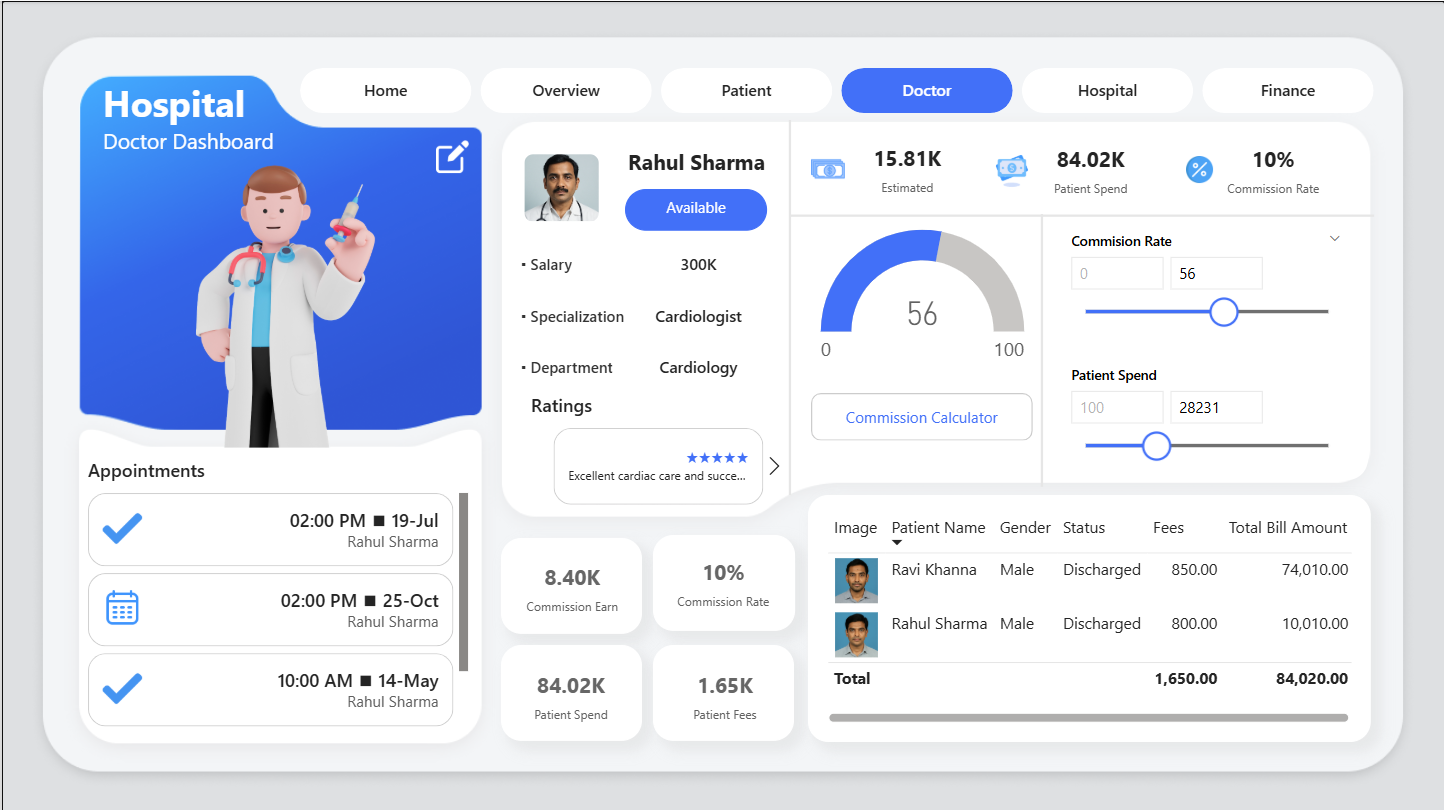

What the dashboard file says about the page in this screenshot:
{"tool":"powerbi","page":{"name":"Doctor","canvas":[1280,720],"ordinal":3},"visuals":[{"type":"shape","box":[442.1,476.2,125.4,85.3],"z":0},{"type":"shape","box":[577.7,473.8,125.7,85.2],"z":1000},{"type":"shape","box":[442.1,571.2,125.4,85.3],"z":2000},{"type":"shape","box":[577.3,571.2,125.4,85.3],"z":3000},{"type":"card","fields":{"Values":["Key Measures.Total_Bill_Amt"]},"box":[444.5,576.1,120.6,80.4],"z":4000},{"type":"card","fields":{"Values":["Key Measures.doctor_fees"]},"box":[580.9,576.1,120.6,80.4],"z":5000},{"type":"card","fields":{"Values":["Key Measures.Dr_Commission_Amt"]},"box":[445.7,481.1,119.4,79.2],"z":6000},{"type":"card","fields":{"Values":["Key Measures.Dr_Commission_Rate"]},"box":[579.7,476.9,119.5,79],"z":7000},{"type":"image","box":[104.7,132.7,280.1,263.1],"z":8000},{"type":"textbox","box":[89.6,68.3,164,75.4],"z":9000},{"type":"image","box":[384.8,120.6,29.3,34.6],"z":10000},{"type":"card","fields":{"Values":["Min(patient_info.doctor_name)"]},"box":[536.1,126.8,159,35.3],"z":11000},{"type":"card","fields":{"Values":["Min(patient_info.doctor_availability)"]},"box":[552.3,166.3,126,37.3],"z":12000},{"type":"shape","box":[460.3,213,75,40],"z":13000},{"type":"shape","box":[460.6,259,91.7,40.3],"z":14000},{"type":"shape","box":[460.6,305.4,91.7,39.3],"z":15000},{"type":"card","fields":{"Values":["Sum(patient_info.doctor_salary)"]},"box":[540.3,215.7,155,40],"z":16000},{"type":"card","fields":{"Values":["Min(patient_info.doctor_specialization)"]},"box":[540.3,261.4,155,40],"z":17000},{"type":"card","fields":{"Values":["Min(patient_info.doctor_department)"]},"box":[540.3,307.1,155,40],"z":18000},{"type":"advancedSlicerVisual","title":"Appointments","fields":{"Values":["appointment.Appointment_Time_Date"]},"box":[76.6,405.2,337.6,239.9],"z":19000},{"type":"cardVisual","fields":{"Data":["Min(patient_info.doctor_Img)"]},"box":[460.6,118.9,79.6,94.7],"z":20000},{"type":"advancedSlicerVisual","title":"Ratings","fields":{"Values":["patient_info.satisfaction_feedback"]},"box":[468.7,347.7,226.8,99.8],"z":21000},{"type":"tableEx","fields":{"Values":["patient_info.patient_Img","patient_info.patient_name","patient_info.patient_gender","patient_info.patient_status","Key Measures.doctor_fees","Key Measures.Total_Bill_Amt"]},"box":[715,438,499,219],"z":22000},{"type":"card","fields":{"Values":["Key Measures.Total_Bill_Amt"]},"box":[900.5,117.9,129,62.5],"z":23000},{"type":"card","fields":{"Values":["Key Measures.Estimated_commission"]},"box":[737.8,117.9,130,61.5],"z":24000},{"type":"card","fields":{"Values":["Key Measures.Dr_Commission_Rate"]},"box":[1062.3,117.9,130,62.5],"z":25000},{"type":"slicer","fields":{"Values":["Estimate_Commision_Rate.Estimate_Commision_Rate"]},"box":[922.6,188.5,288.3,120.9],"z":26000},{"type":"slicer","fields":{"Values":["Estimate_Patient_Amount.Estimate_Patient_Amount"]},"box":[922.6,307.4,288.3,116.9],"z":27000},{"type":"gauge","fields":{"Y":["Max(Estimate_Commision_Rate.Estimate_Commision_Rate)"],"MaxValue":["Key Measures.Target"]},"box":[709.5,188.5,213.7,152.2],"z":28000},{"type":"textbox","box":[601.7,0,101.8,99.8],"z":29000},{"type":"shape","box":[699.5,181.4,517,17.1],"z":30000},{"type":"shape","box":[688.4,105.8,21.2,332.6],"z":31000},{"type":"shape","box":[911.1,188.5,21.2,241.9],"z":32000},{"type":"shape","box":[717.6,347.7,196.5,42.3],"z":33000},{"type":"image","box":[717.6,134,30.2,30.2],"z":34000},{"type":"image","box":[880.9,136.1,30.2,30.2],"z":35000},{"type":"image","box":[1050.2,137.1,24.2,24.2],"z":36000},{"type":"pageNavigator","box":[264.1,59.5,952.4,40.3],"z":37001}]}

Visuals, with their boxes in screenshot pixels (x1, y1, x2, y2), scaled from the page's 1280x720 canvas onto the 1444x810 screenshot:
shape: x1=499 y1=536 x2=640 y2=632
shape: x1=652 y1=533 x2=794 y2=629
shape: x1=499 y1=643 x2=640 y2=739
shape: x1=651 y1=643 x2=793 y2=739
card - Key Measures.Total_Bill_Amt: x1=501 y1=648 x2=638 y2=739
card - Key Measures.doctor_fees: x1=655 y1=648 x2=791 y2=739
card - Key Measures.Dr_Commission_Amt: x1=503 y1=541 x2=638 y2=630
card - Key Measures.Dr_Commission_Rate: x1=654 y1=537 x2=789 y2=625
image: x1=118 y1=149 x2=434 y2=445
textbox: x1=101 y1=77 x2=286 y2=162
image: x1=434 y1=136 x2=467 y2=175
card - Min(patient_info.doctor_name): x1=605 y1=143 x2=784 y2=182
card - Min(patient_info.doctor_availability): x1=623 y1=187 x2=765 y2=229
shape: x1=519 y1=240 x2=604 y2=285
shape: x1=520 y1=291 x2=623 y2=337
shape: x1=520 y1=344 x2=623 y2=388
card - Sum(patient_info.doctor_salary): x1=610 y1=243 x2=784 y2=288
card - Min(patient_info.doctor_specialization): x1=610 y1=294 x2=784 y2=339
card - Min(patient_info.doctor_department): x1=610 y1=345 x2=784 y2=390
"Appointments" advancedSlicerVisual: x1=86 y1=456 x2=467 y2=726
cardVisual - Min(patient_info.doctor_Img): x1=520 y1=134 x2=609 y2=240
"Ratings" advancedSlicerVisual: x1=529 y1=391 x2=785 y2=503
tableEx - patient_info.patient_Img x patient_info.patient_name: x1=807 y1=493 x2=1370 y2=739
card - Key Measures.Total_Bill_Amt: x1=1016 y1=133 x2=1161 y2=203
card - Key Measures.Estimated_commission: x1=832 y1=133 x2=979 y2=202
card - Key Measures.Dr_Commission_Rate: x1=1198 y1=133 x2=1345 y2=203
slicer - Estimate_Commision_Rate.Estimate_Commision_Rate: x1=1041 y1=212 x2=1366 y2=348
slicer - Estimate_Patient_Amount.Estimate_Patient_Amount: x1=1041 y1=346 x2=1366 y2=477
gauge - Max(Estimate_Commision_Rate.Estimate_Commision_Rate) x Key Measures.Target: x1=800 y1=212 x2=1041 y2=383
textbox: x1=679 y1=0 x2=794 y2=112
shape: x1=789 y1=204 x2=1372 y2=223
shape: x1=777 y1=119 x2=801 y2=493
shape: x1=1028 y1=212 x2=1052 y2=484
shape: x1=810 y1=391 x2=1031 y2=439
image: x1=810 y1=151 x2=844 y2=185
image: x1=994 y1=153 x2=1028 y2=187
image: x1=1185 y1=154 x2=1212 y2=181
pageNavigator: x1=298 y1=67 x2=1372 y2=112
